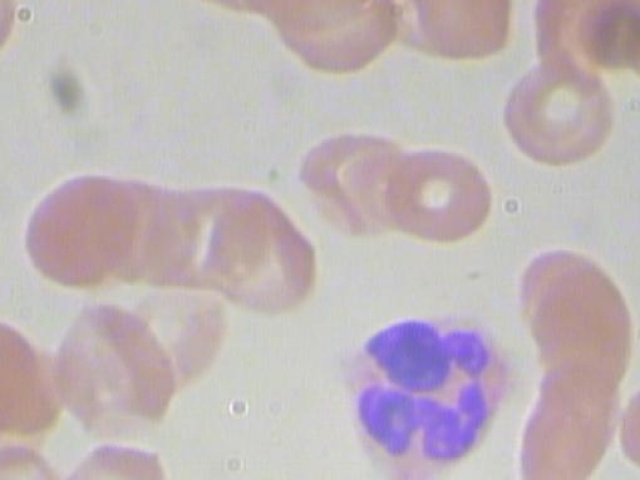RBC: (47, 299, 181, 442), (212, 184, 326, 327), (16, 168, 147, 292), (495, 55, 627, 178), (296, 120, 412, 243), (528, 261, 635, 394), (513, 364, 620, 480), (388, 140, 494, 251), (613, 364, 640, 480), (0, 440, 76, 480)
WBC: (325, 304, 523, 480)
